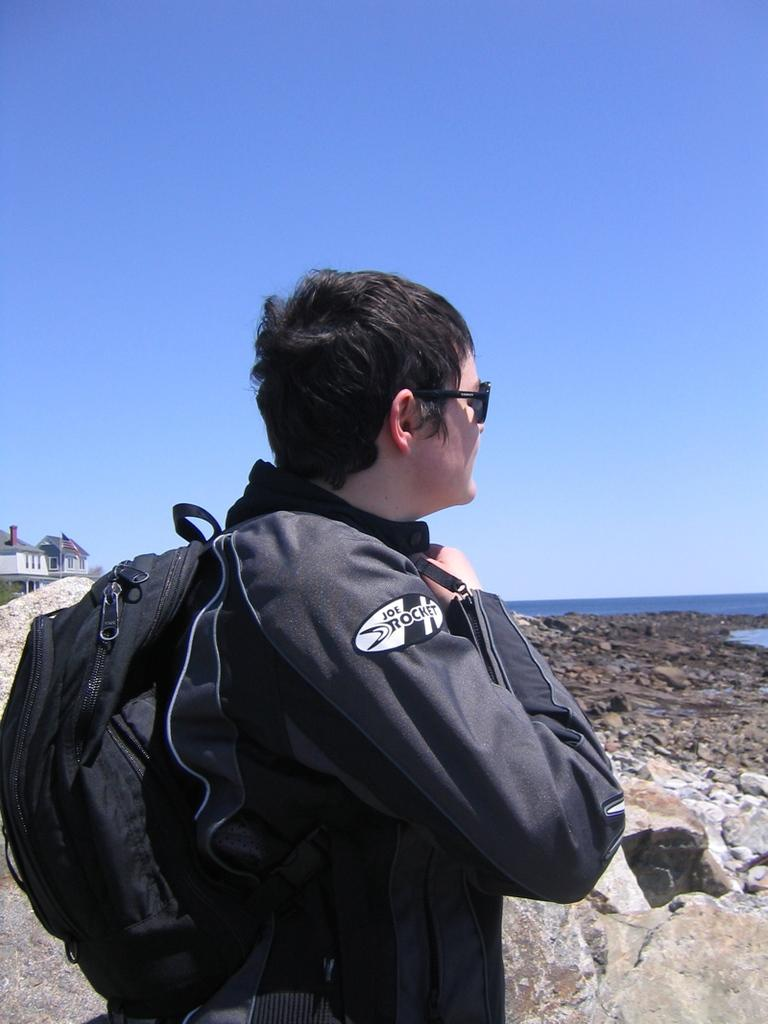Luggage-and-bags: (0, 501, 217, 1017)
